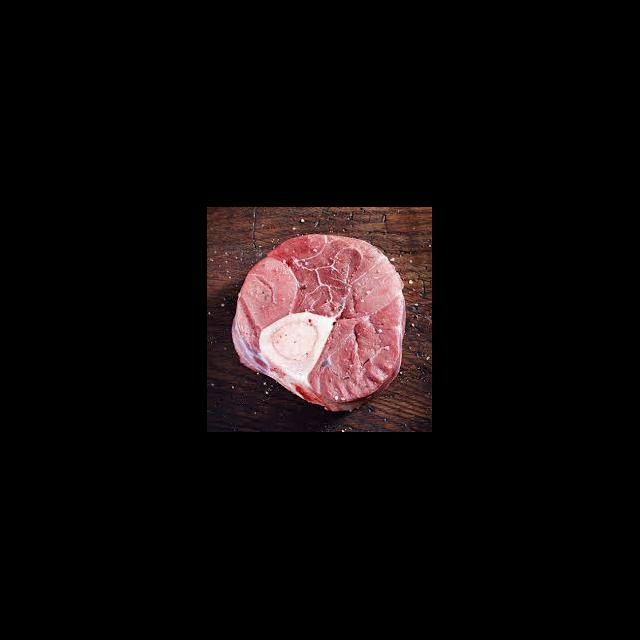beef: (230, 234, 404, 412)
